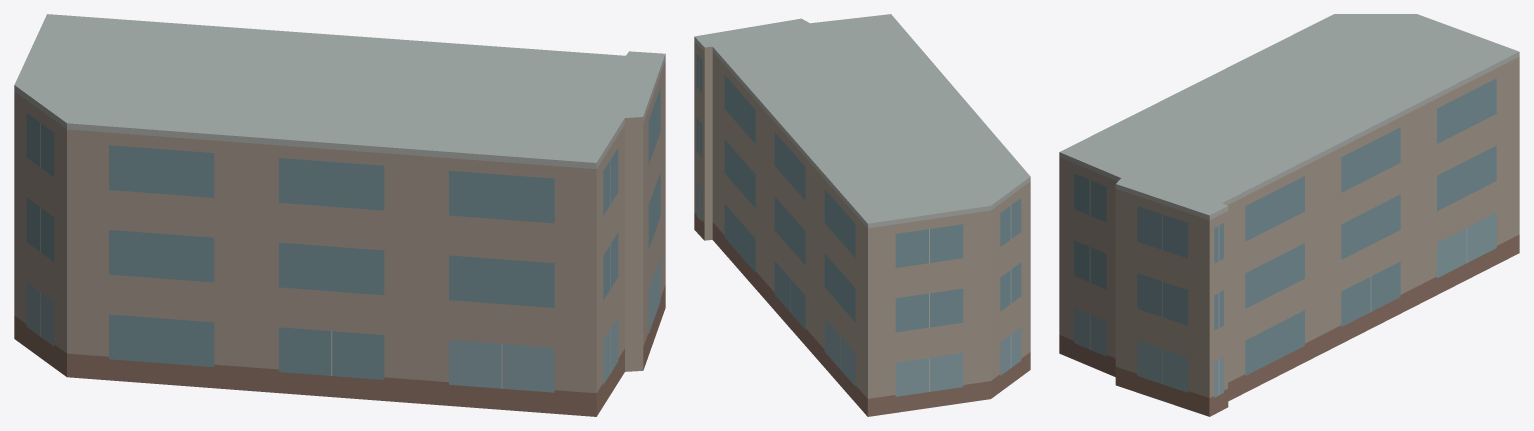
Rendered from survey-upis-32605428.glb.
The picture shows the model from 3 angles, left to right: view 1: azimuth 30°, elevation 25°; view 2: azimuth 150°, elevation 25°; view 3: azimuth 270°, elevation 25°; orthographic projection. The views are drawn at different scales.
Visible parts, largest first — view 1: survey-upis-32605428.tmp; view 2: survey-upis-32605428.tmp; view 3: survey-upis-32605428.tmp.
Part boxes in pixels (<box>): survey-upis-32605428.tmp: <box>14,14,665,416</box>; survey-upis-32605428.tmp: <box>694,14,1030,416</box>; survey-upis-32605428.tmp: <box>1059,14,1519,416</box>.
Bounding box in the file's own units: 21.68 × 10.1 × 20.92.
